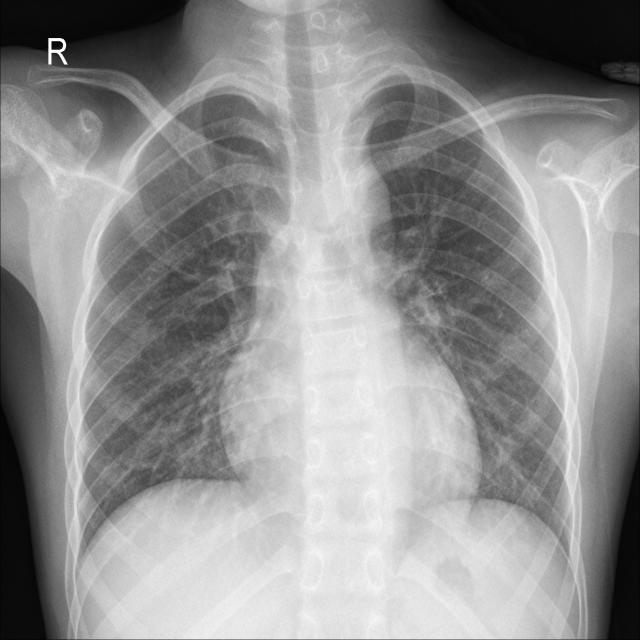no-pneumonia: (68, 77, 290, 556), (352, 75, 567, 541)
